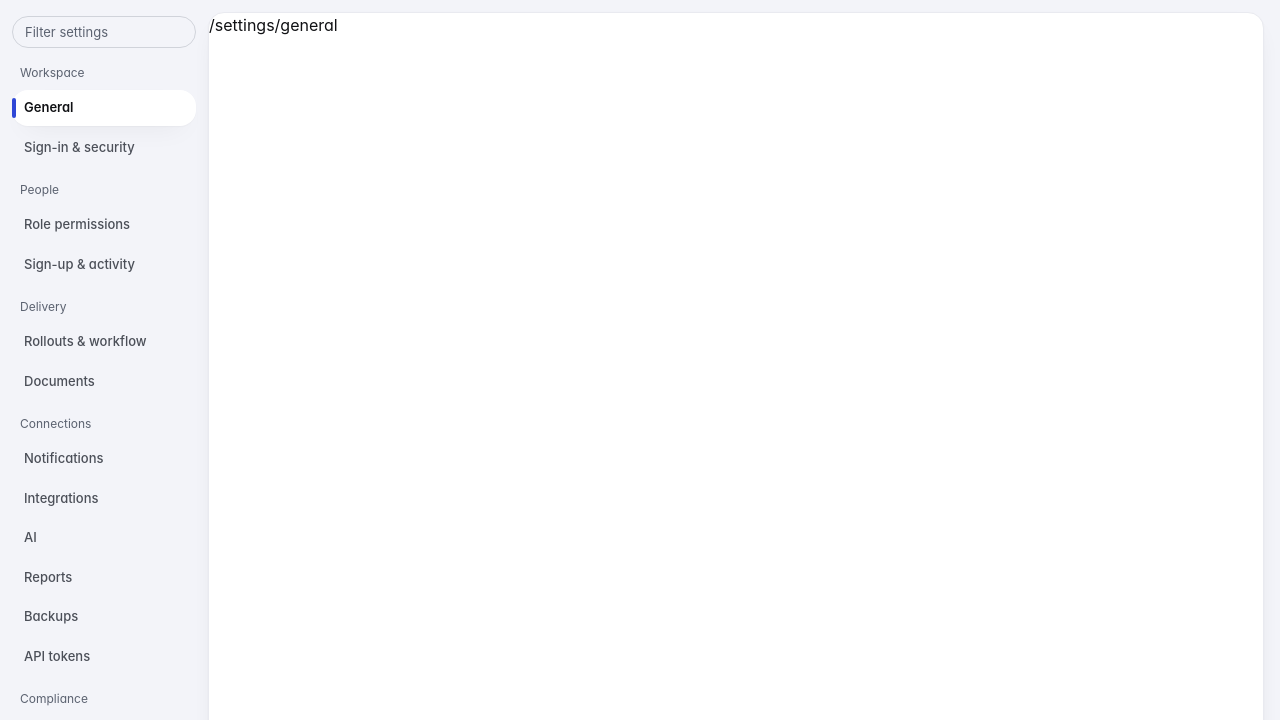
the Settings menu filter (B14) › narrows the menu to matching areas and settings, and Enter jumps to the first
Expected: the link "Backups" is shown, x1=24 y1=608 x2=78 y2=624
Click the search field labelled "Filter settings": (104, 32) x1=12 y1=16 x2=196 y2=48
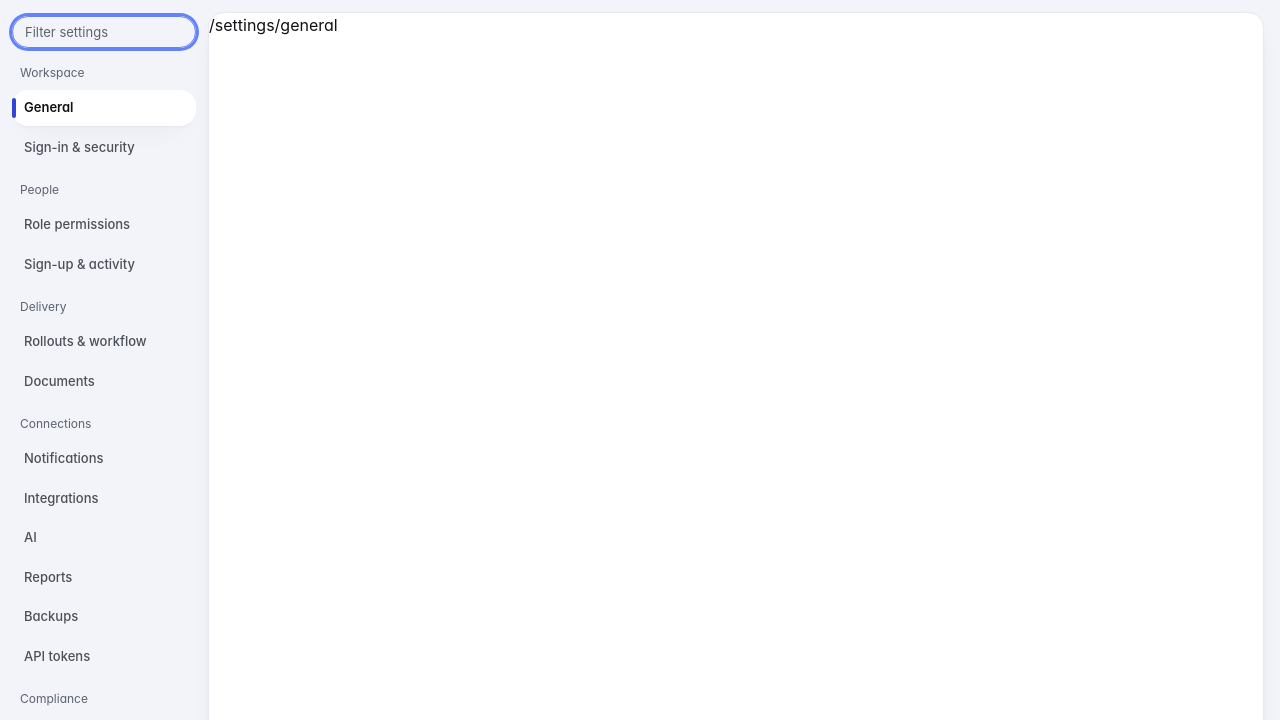
Type keys "undo"
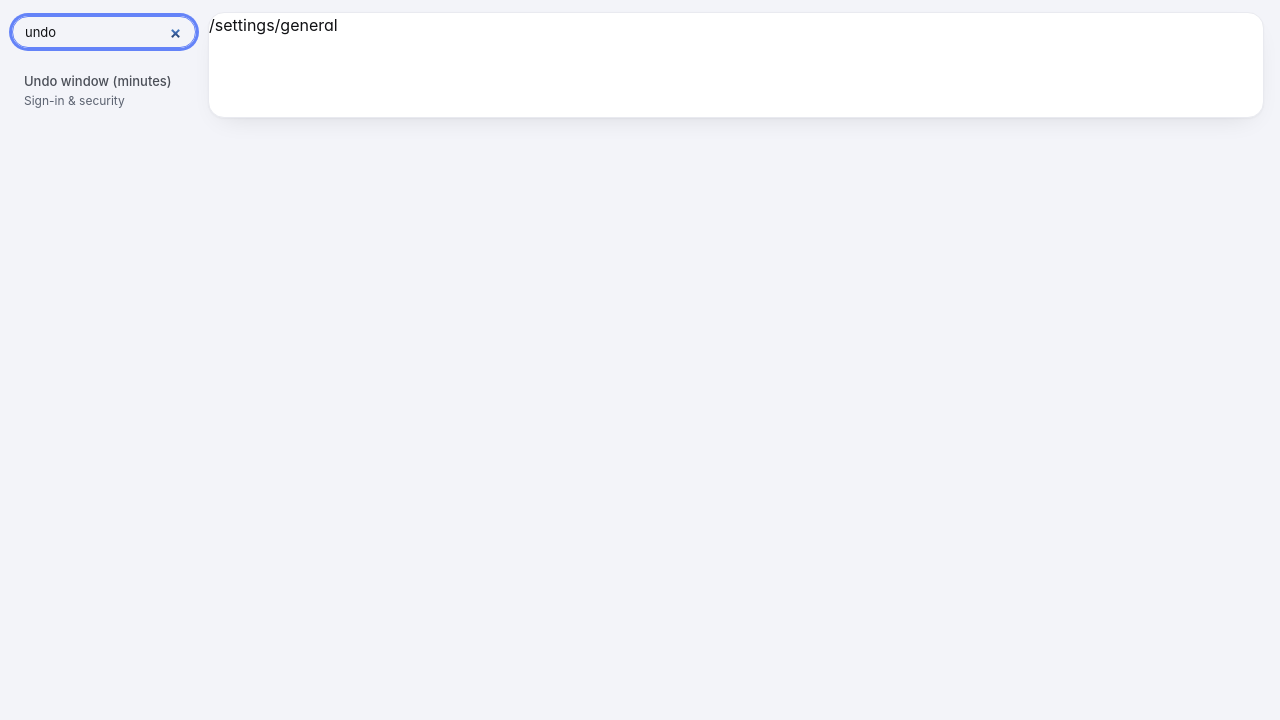
Now the link "Undo window (minutes) Sign-in & security" is shown, box x1=24 y1=73 x2=172 y2=108
Now the link "Backups" is gone
Press Enter
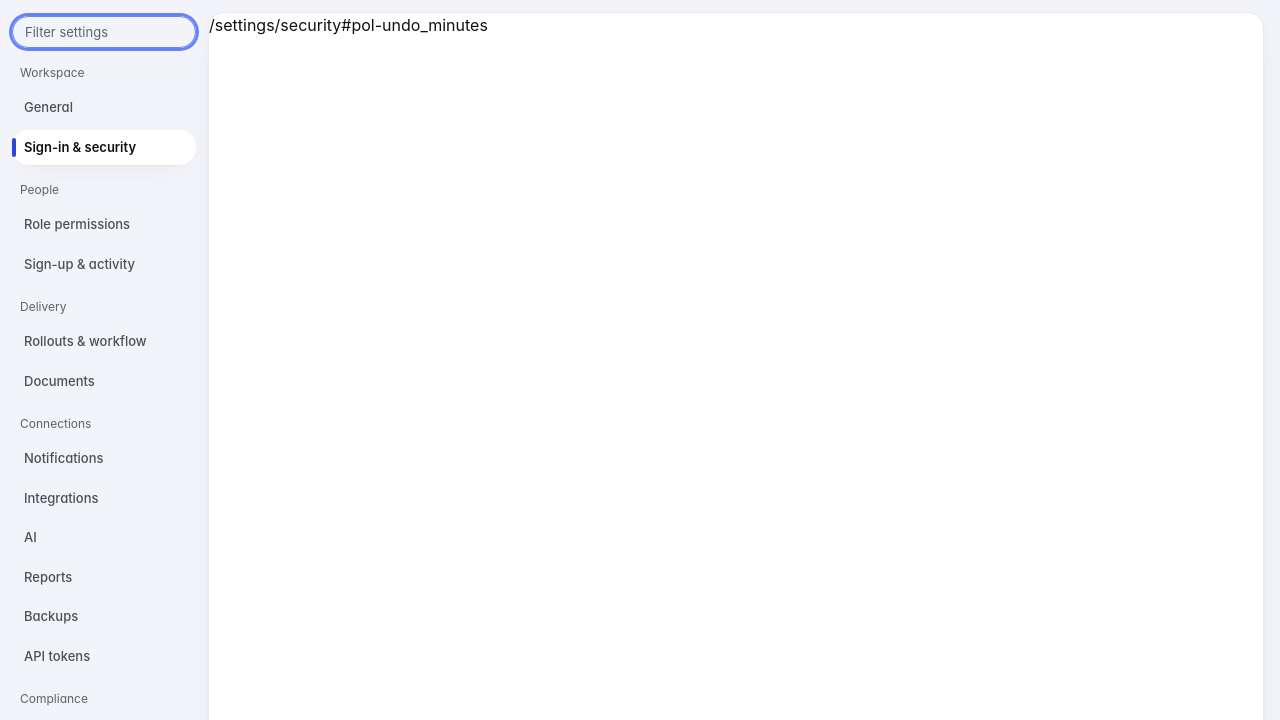
Now the text with test id "where" reads "/settings/security#pol-undo_minutes", box x1=209 y1=15 x2=488 y2=35
Now the link "Backups" is shown, box x1=24 y1=608 x2=78 y2=624
